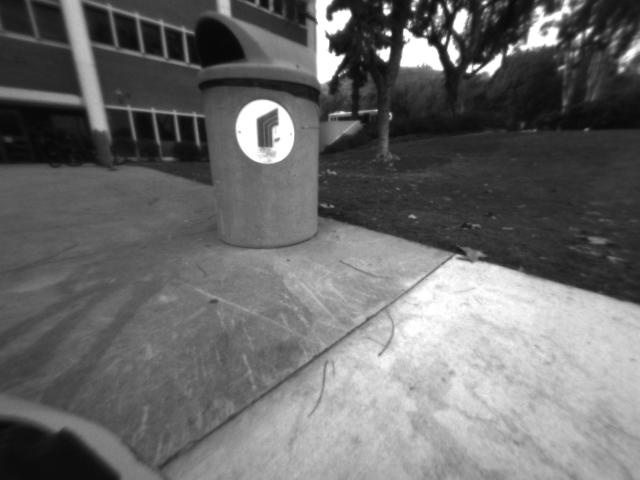trashcan: (189, 9, 326, 251)
